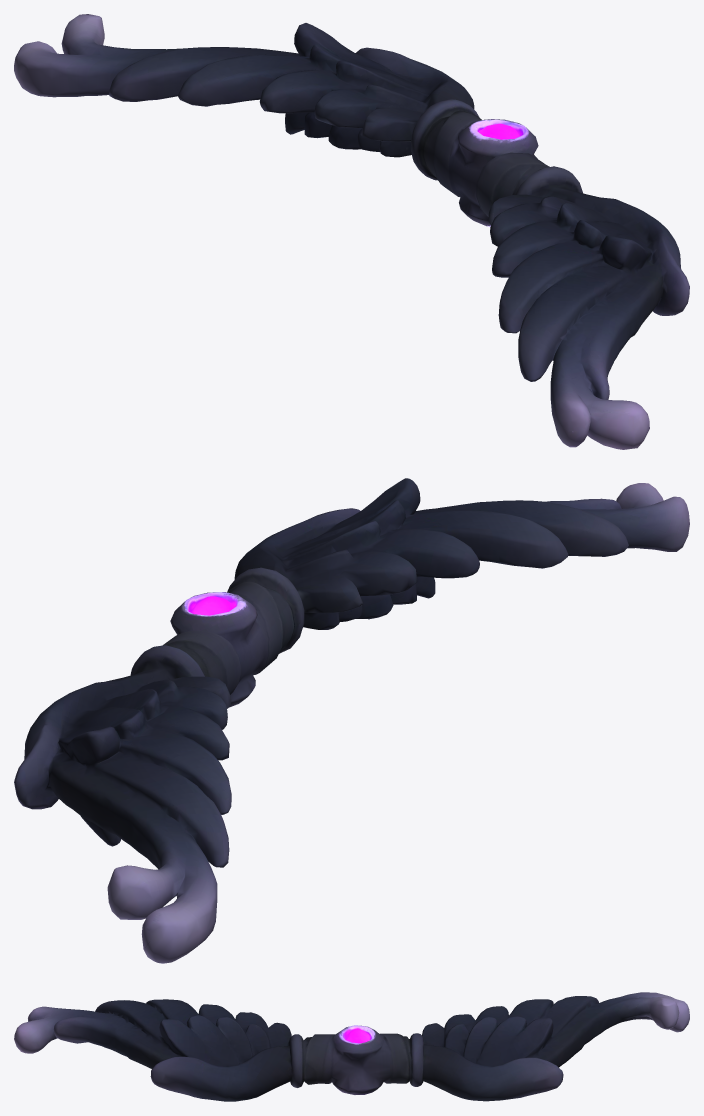
Rendered from Arm_night_wing-Xtz26v-9.glb.
The picture shows the model from 3 angles, top to bottom: view 1: azimuth 30°, elevation 25°; view 2: azimuth 150°, elevation 25°; view 3: azimuth 270°, elevation 25°; orthographic projection. The views are drawn at different scales.
Visible parts, largest first — view 1: Arm_night_wing; view 2: Arm_night_wing; view 3: Arm_night_wing.
Part boxes in pixels (x1,y1,x2,y2): Arm_night_wing: (14, 14, 689, 449); Arm_night_wing: (14, 478, 689, 963); Arm_night_wing: (14, 992, 689, 1101).
Size of the model in its own units: 0.624 by 0.2165 by 1.9.
1 material, 1 textured.
